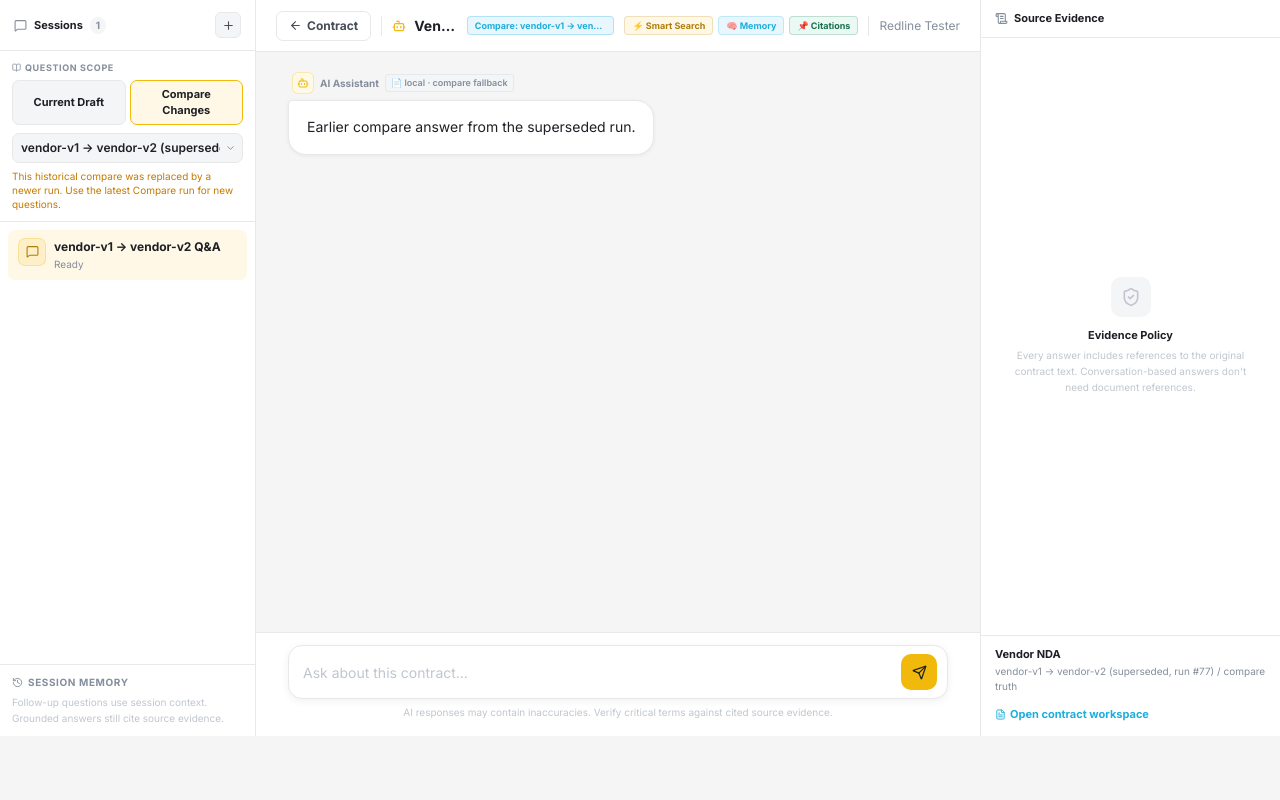
Scenario: ContractChatPage › keeps superseded historical compare sessions readable but blocks new questions
Check: the text "Earlier compare answer from the superseded run." is shown, box 307,115 -> 636,140
Check: the dropdown named "compare run" shows "vendor-v1 -> vendor-v2 (superseded, run #77)", box 12,132 -> 243,162
Step 1. Type "What changed now?" into the text box labelled "Ask about this contract…" → (598, 672), box 303,662 -> 893,682
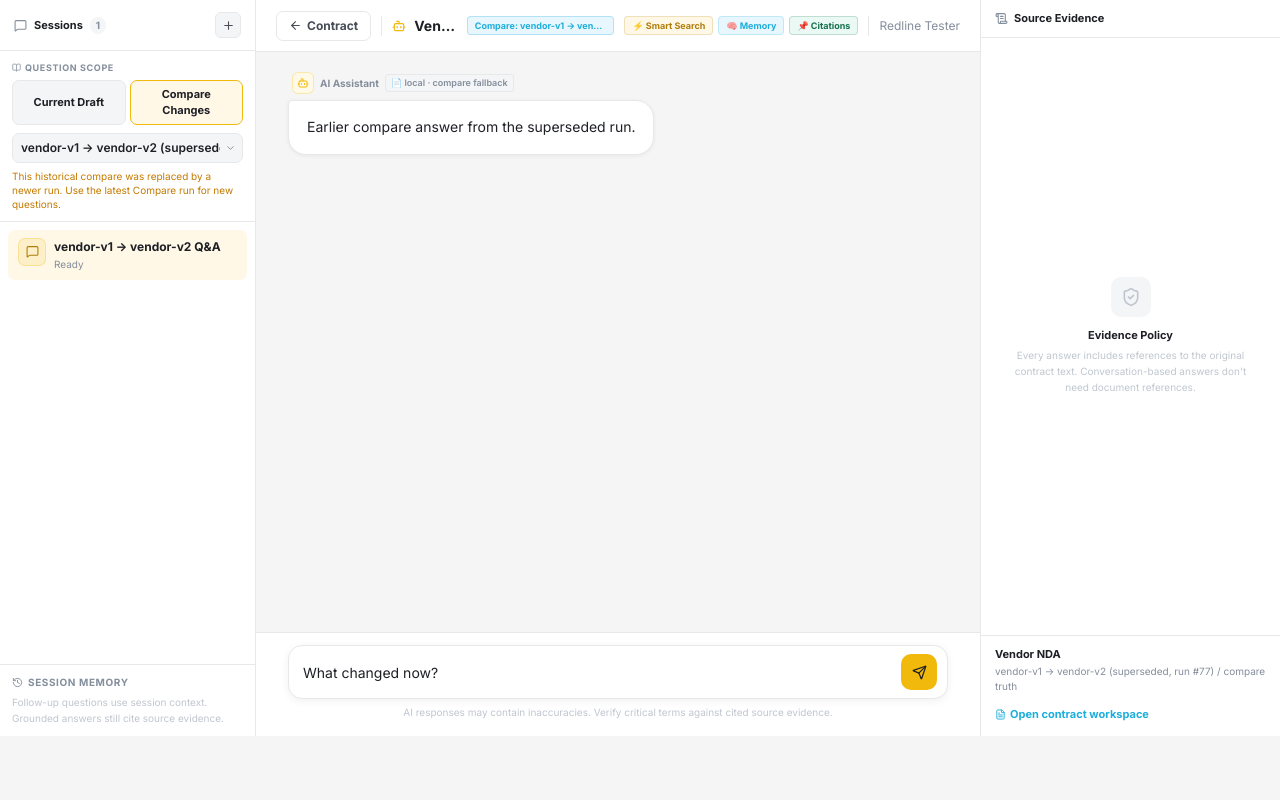
Step 2. Click the button named "send message" → (919, 672), box 901,654 -> 937,690
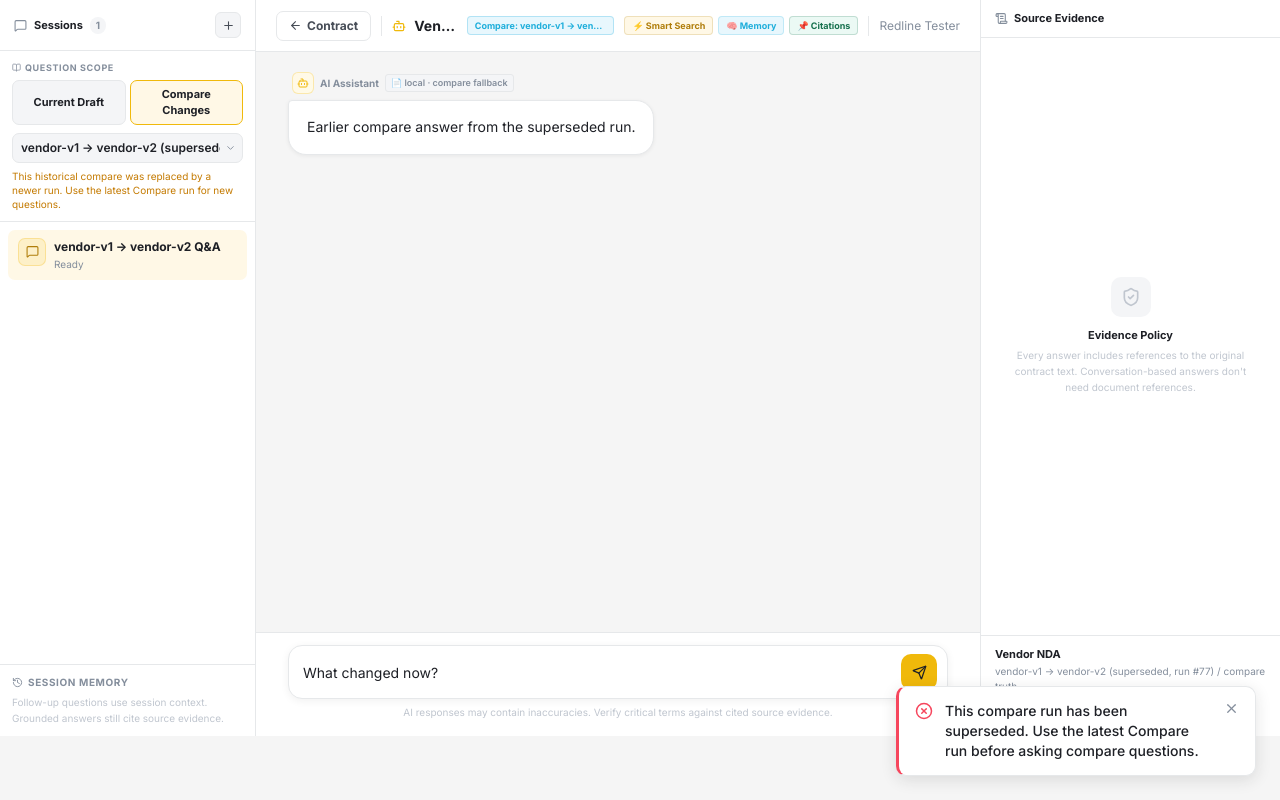
Check: the text "before asking compare questions" is shown, box 945,702 -> 1199,759
